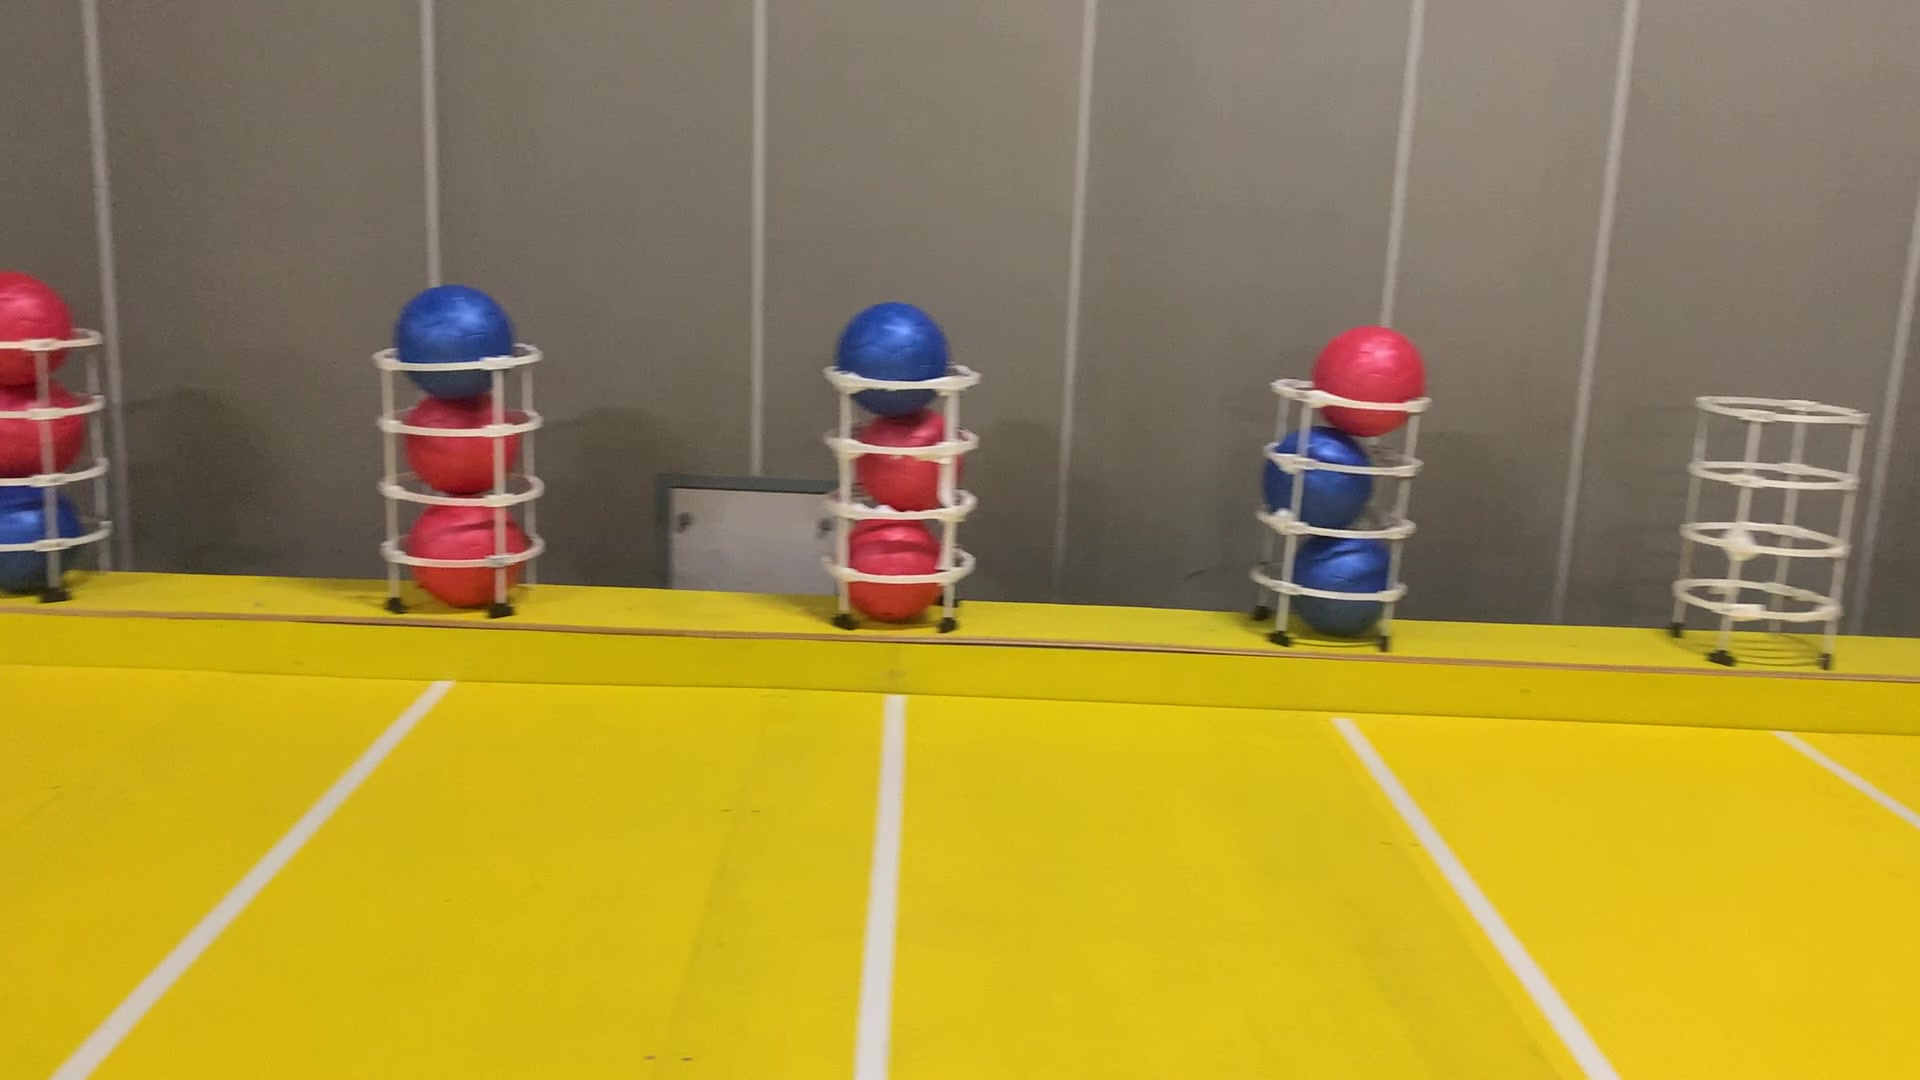blue: (389, 280, 521, 401), (825, 298, 956, 418), (1258, 417, 1374, 537), (1279, 524, 1396, 637), (0, 476, 79, 599)
red: (398, 492, 534, 617), (1308, 326, 1433, 439), (393, 392, 524, 498), (837, 508, 951, 630), (844, 401, 969, 509), (0, 257, 70, 397), (0, 368, 78, 476)
